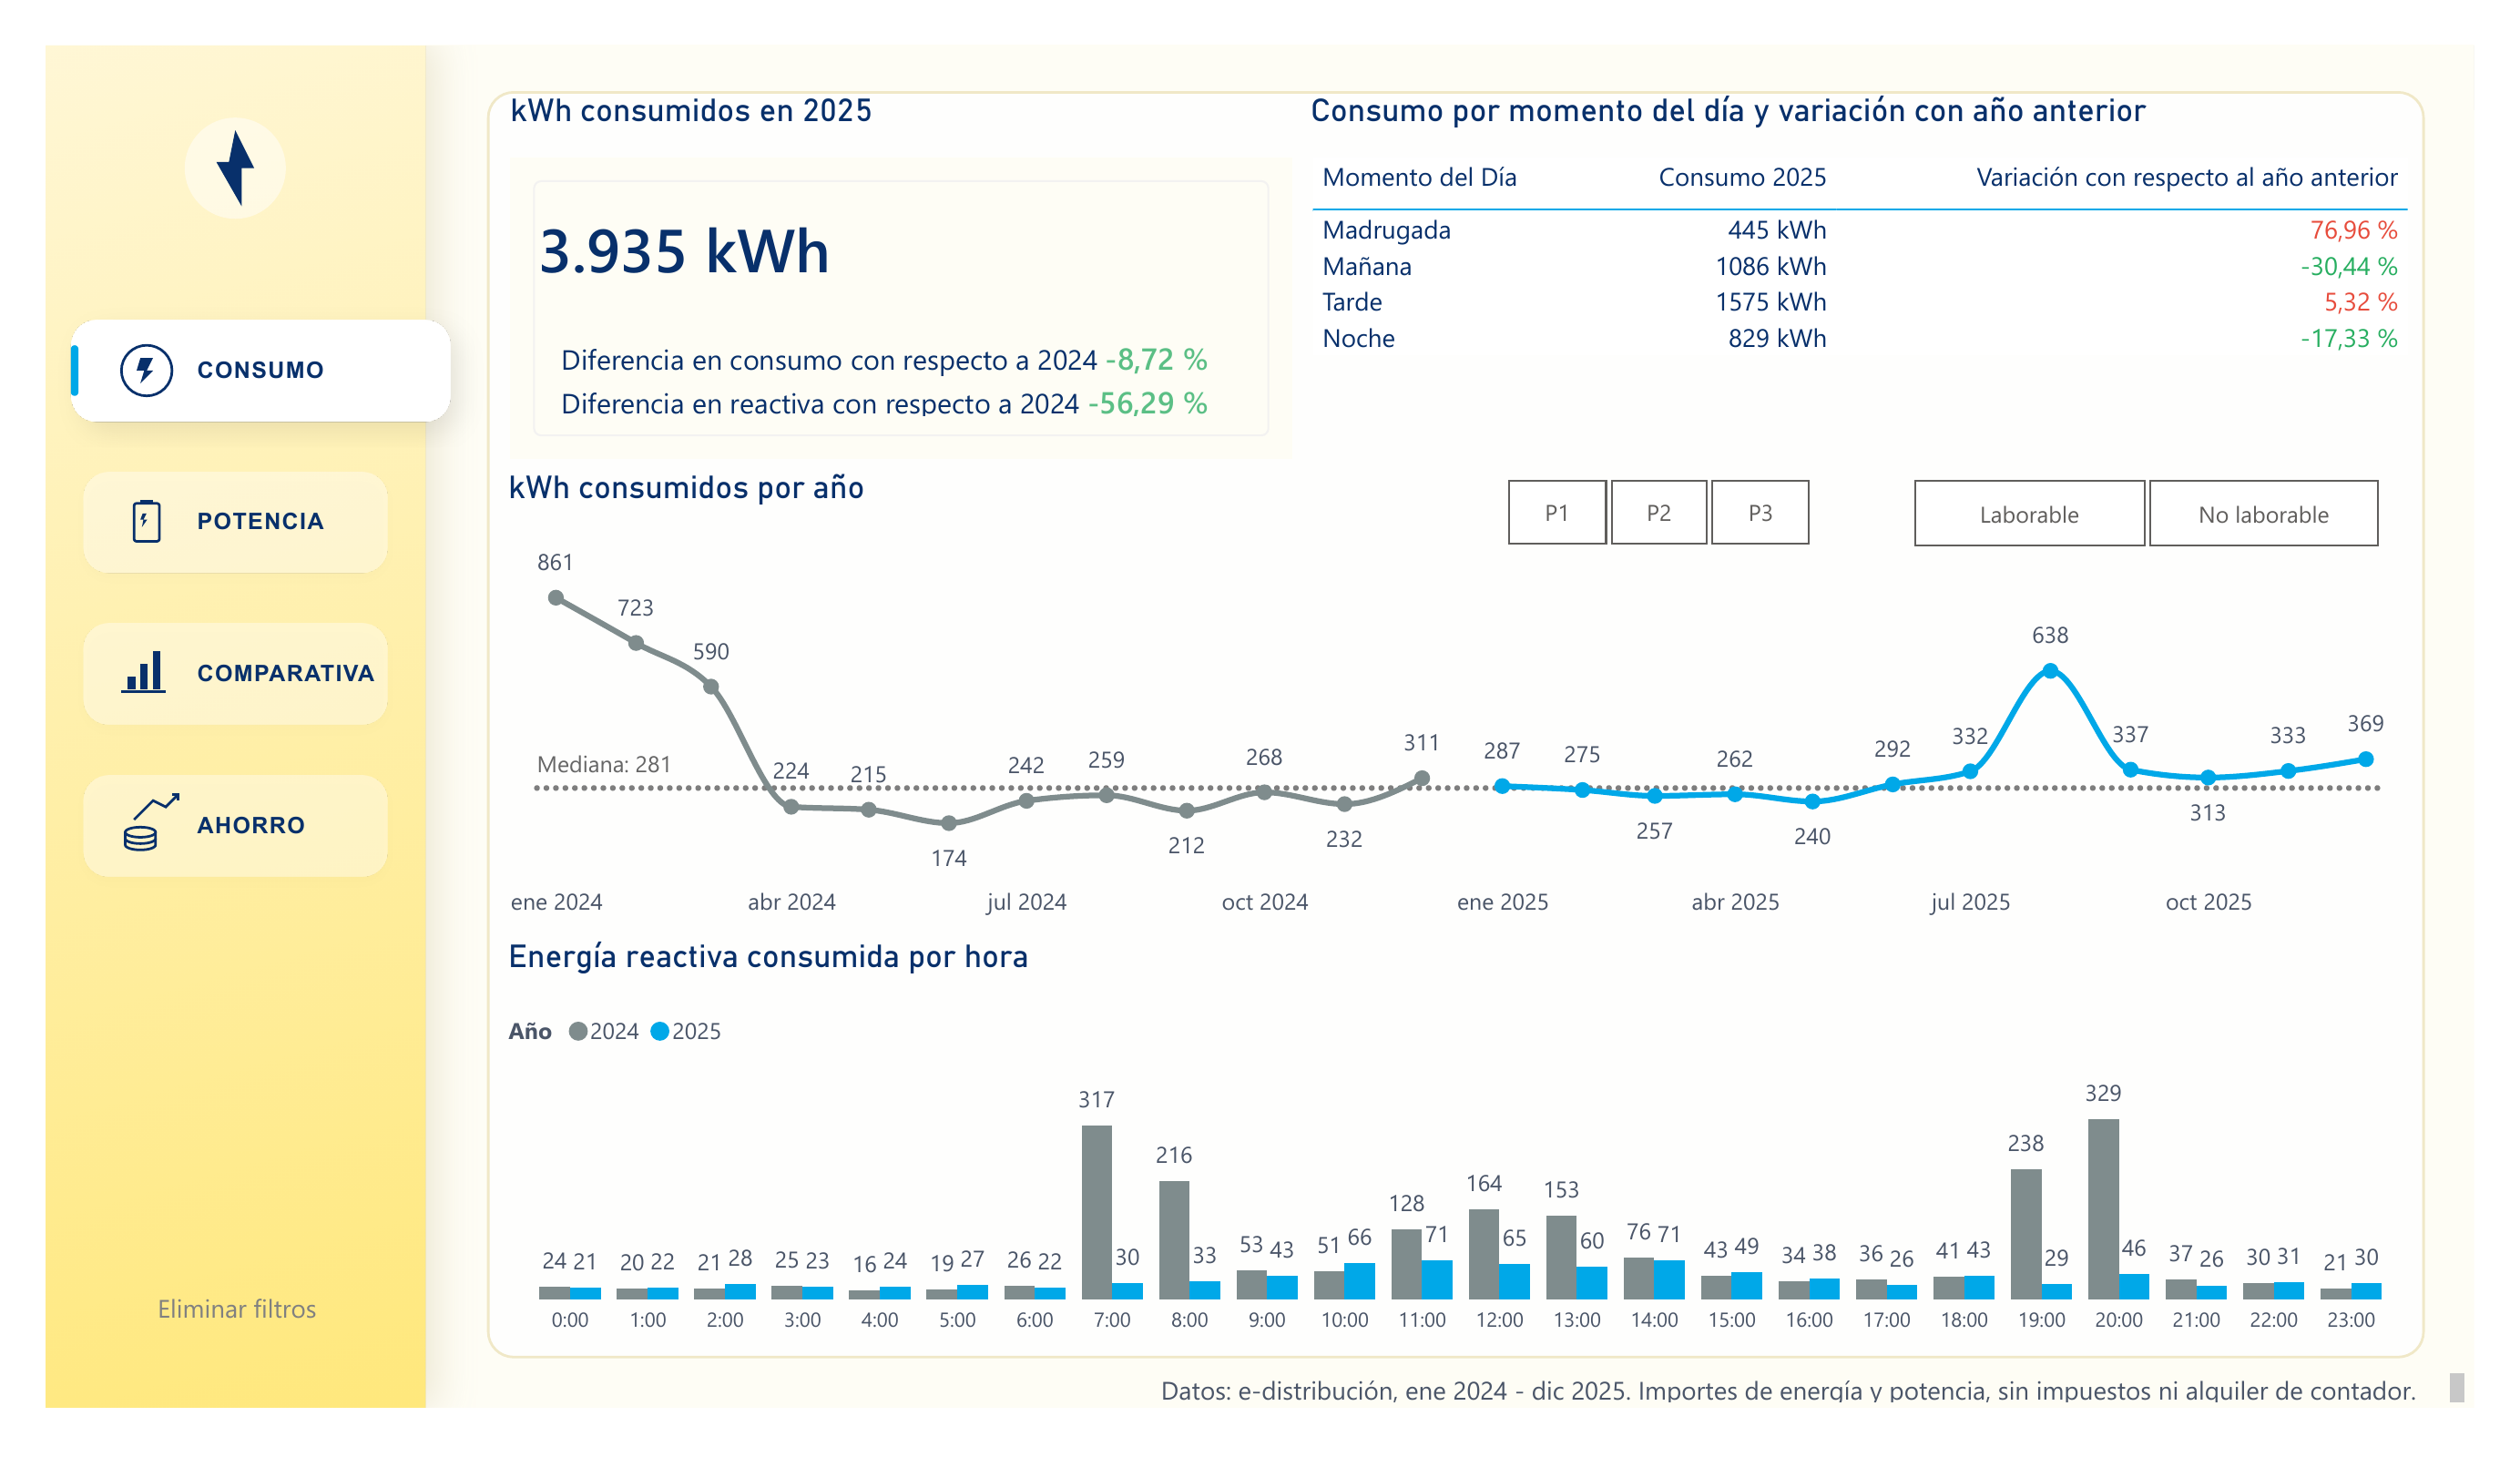

Layout of this report page (visuals, bound fields, positions):
{"tool":"powerbi","page":{"name":"Consumo","canvas":[1280,720],"ordinal":0},"visuals":[{"type":"actionButton","box":[22.9,223.1,156.8,54.8],"z":1000},{"type":"actionButton","box":[22.9,311.1,156.8,48.4],"z":2000},{"type":"actionButton","box":[22.9,382.5,156.8,56.1],"z":3000},{"type":"cardVisual","title":"kWh consumidos en 2025","fields":{"Data":["_Medidas.Consumo 2025"]},"box":[239.7,24.2,422,198.9],"z":4000},{"type":"tableEx","title":"Consumo por momento del día y variación con año anterior","fields":{"Values":["T_consumo.Momento del Día","_Medidas.Consumo 2025","_Medidas.% Var Consumo 25 vs 24"]},"box":[661.7,24.2,590.3,178.5],"z":5000},{"type":"lineClusteredColumnComboChart","title":"Energía reactiva consumida por hora","fields":{"Category":["T_consumo.HoraFormato"],"Series":["T_consumo.Año"],"Y":["_Medidas.Reactiva kVARh"]},"box":[239.1,469.6,1013.7,220.5],"z":6000},{"type":"lineChart","title":"kWh consumidos por año","fields":{"Y":["Sum(T_consumo.Consumida Kwh)"],"Series":["Calendario.Año"],"Category":["Calendario.AñoMes"]},"box":[239.1,223.4,1012.3,246.3],"z":7000},{"type":"slicer","fields":{"Values":["T_periodo_tarifario.Periodo"]},"box":[745.1,222.4,208.8,47.8],"z":8000},{"type":"slicer","fields":{"Values":["T_consumo.Tipo de Día"]},"box":[959.3,222.4,294.5,48.4],"z":9000},{"type":"textbox","box":[582.5,695,697.5,25],"z":10000},{"type":"actionButton","box":[1.2,640,200,50],"z":11000}]}

Visuals, with their boxes on the page's 1280x720 design canvas (x1, y1, x2, y2). These are canvas units, not pixel positions in the 2520x1457 screenshot, which may show the page scaled, cropped or inside an application window:
actionButton: BBox(23, 223, 180, 278)
actionButton: BBox(23, 311, 180, 360)
actionButton: BBox(23, 382, 180, 439)
"kWh consumidos en 2025" cardVisual: BBox(240, 24, 662, 223)
"Consumo por momento del día y variación con año anterior" tableEx: BBox(662, 24, 1252, 203)
"Energía reactiva consumida por hora" lineClusteredColumnComboChart: BBox(239, 470, 1253, 690)
"kWh consumidos por año" lineChart: BBox(239, 223, 1251, 470)
slicer - T_periodo_tarifario.Periodo: BBox(745, 222, 954, 270)
slicer - T_consumo.Tipo de Día: BBox(959, 222, 1254, 271)
textbox: BBox(582, 695, 1280, 720)
actionButton: BBox(1, 640, 201, 690)
